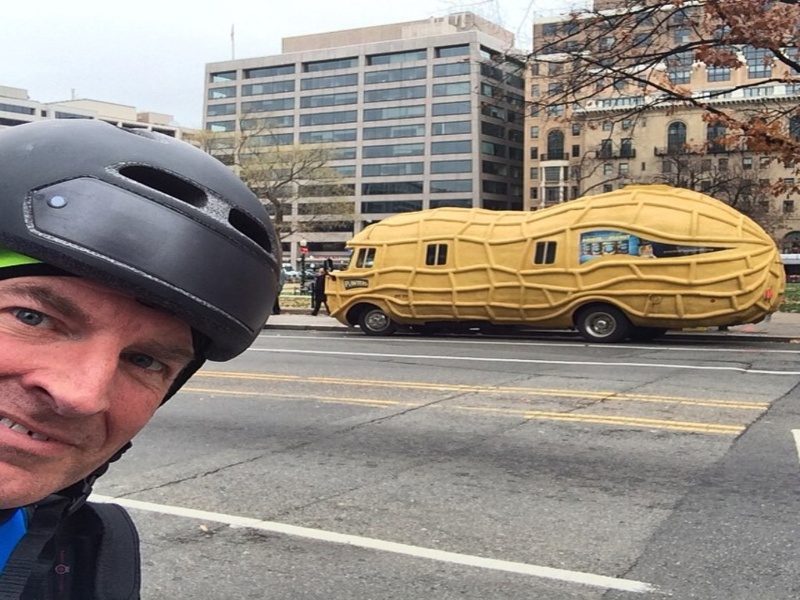helmet: (6, 120, 281, 344)
